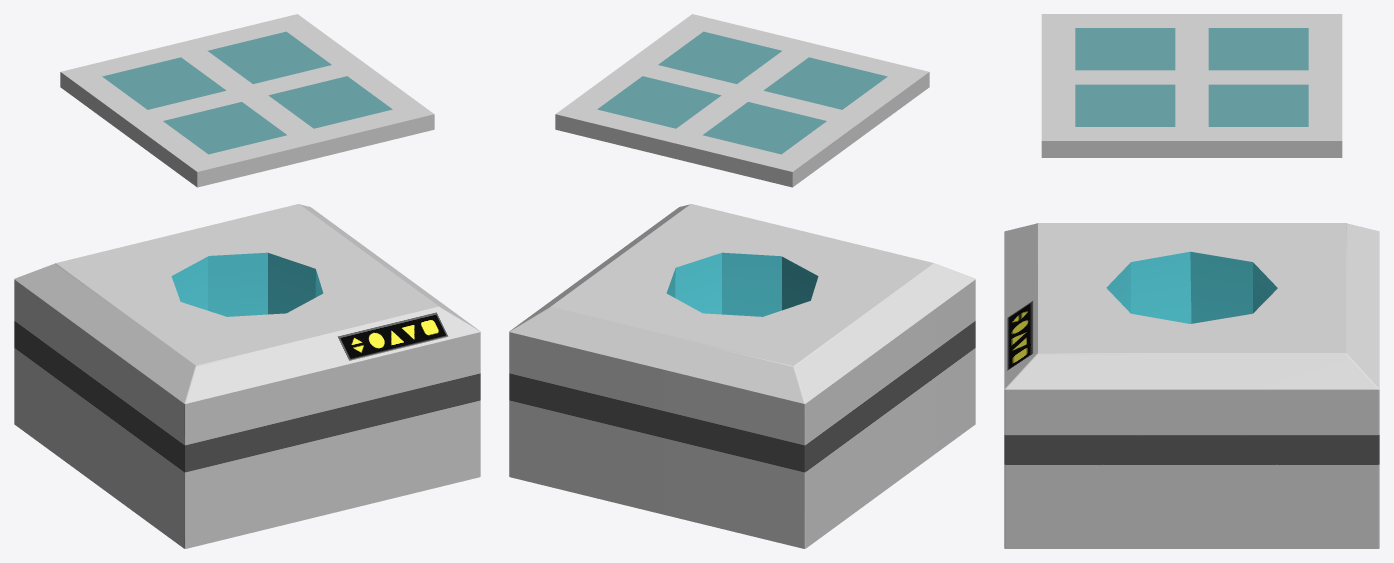
File: MobiLift.fbx
3 views of the same model, side by side, from view 1: azimuth 30°, elevation 25°; view 2: azimuth 150°, elevation 25°; view 3: azimuth 270°, elevation 25° (orthographic). The views are drawn at different scales.
Parts seen in each view (by area): view 1: Base, Platform; view 2: Base, Platform; view 3: Base, Platform.
Part boxes in pixels (bbox=[...]): Base: bbox=[14, 204, 480, 548]; Platform: bbox=[60, 14, 434, 187]; Base: bbox=[509, 204, 975, 548]; Platform: bbox=[555, 14, 929, 187]; Base: bbox=[1004, 223, 1379, 548]; Platform: bbox=[1041, 14, 1342, 157].
Bounding box in the file's own units: 5 × 5.95 × 5.
